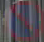No waiting: (5, 3, 43, 40)
